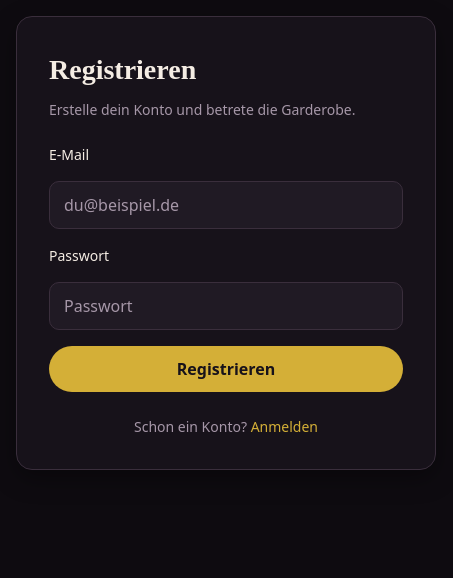
Test case: RegisterPage › shows the API error message when registration fails
The image size is (453, 578).
Type "neu@beispiel.de" into the field labelled "E-Mail".
click(226, 205); type("neu@beispiel.de")  # box [49,181,403,229]
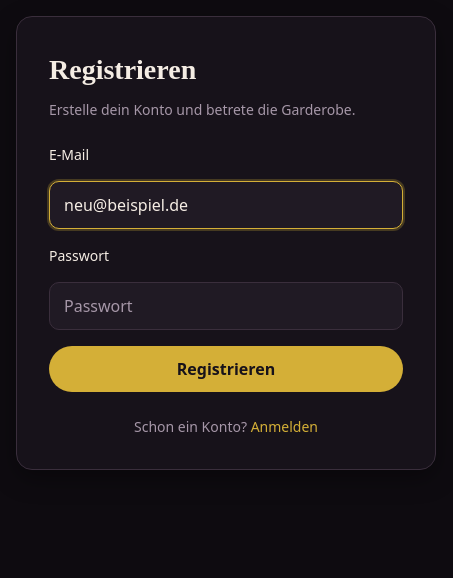
Type "geheim" into the password field labelled "Passwort".
click(226, 306); type("geheim")  # box [49,282,403,330]
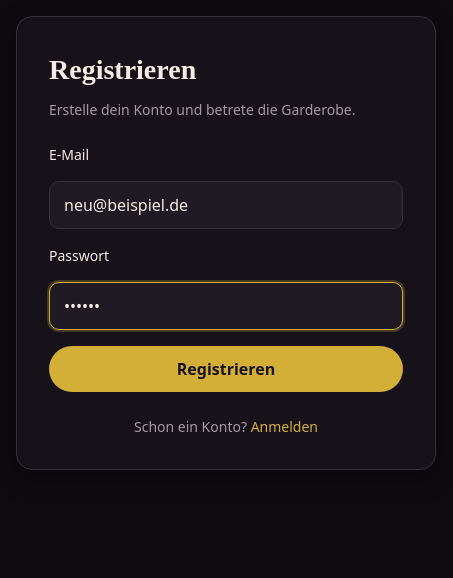
Click the button "Registrieren".
click(226, 369)  # box [49,346,403,392]
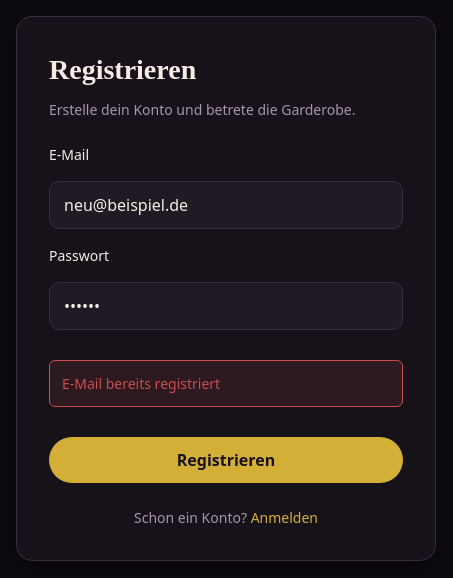
expect the message reads "E-Mail bereits registriert": met, box [62,374,220,393]
